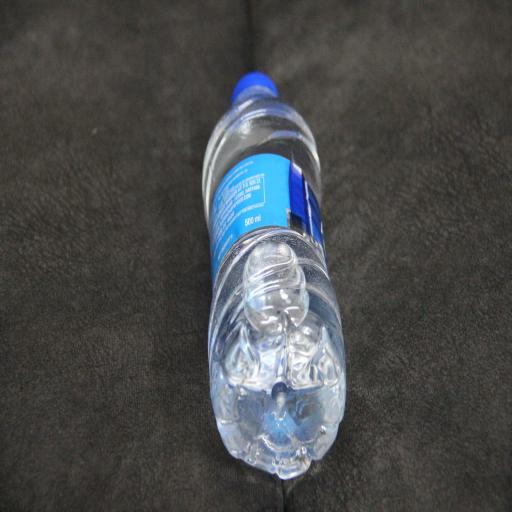Aquafina: (203, 72, 346, 480)
